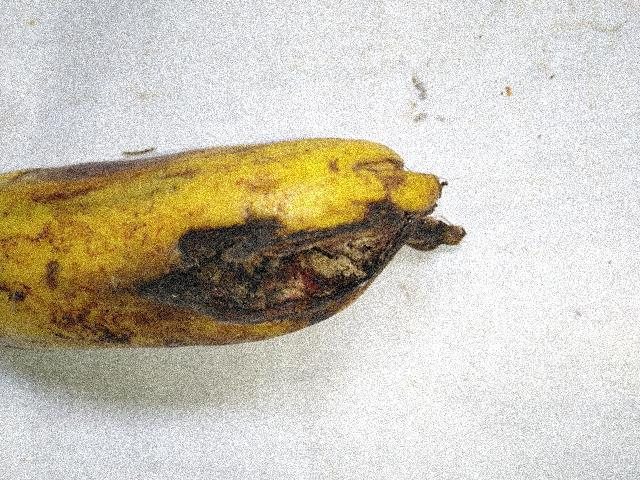ripe: (1, 127, 444, 371)
rotten: (68, 205, 485, 370), (13, 86, 176, 198)
